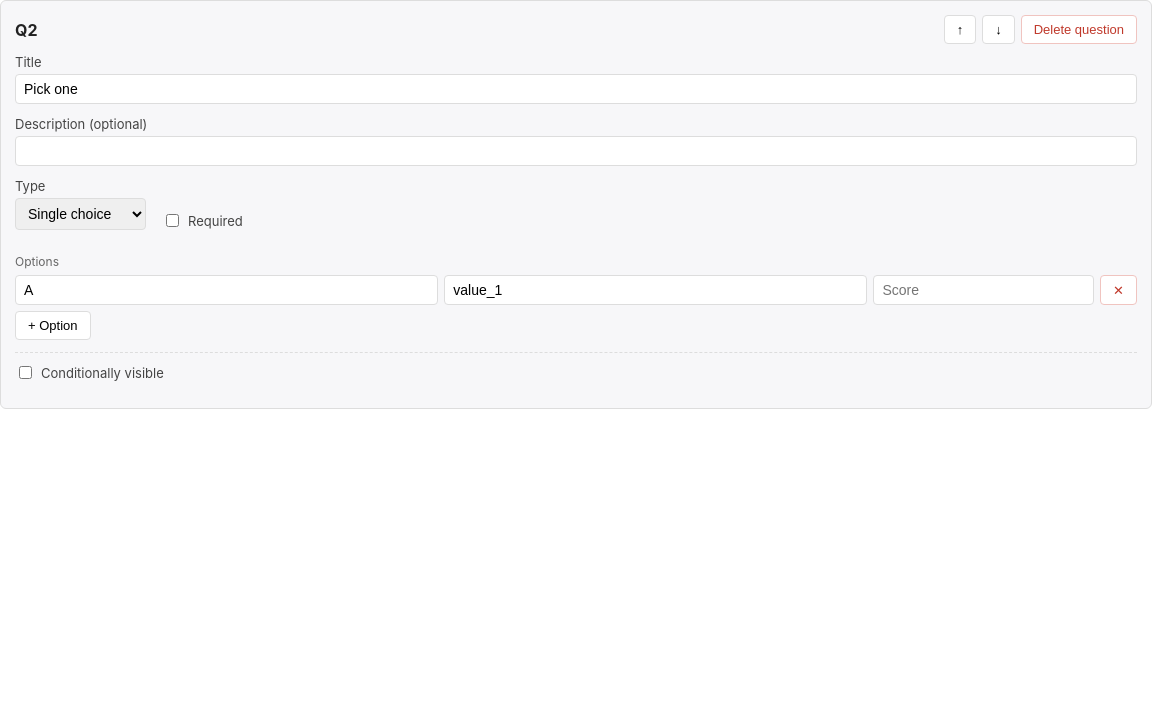
Test: QuestionEditor — conditional visibility › toggling "Conditionally visible" on adds an empty AND rule group editor
expect the text "Match" is not shown: met
Click the checkbox labelled "Conditionally visible" at (26, 372), box [19,366,32,379]
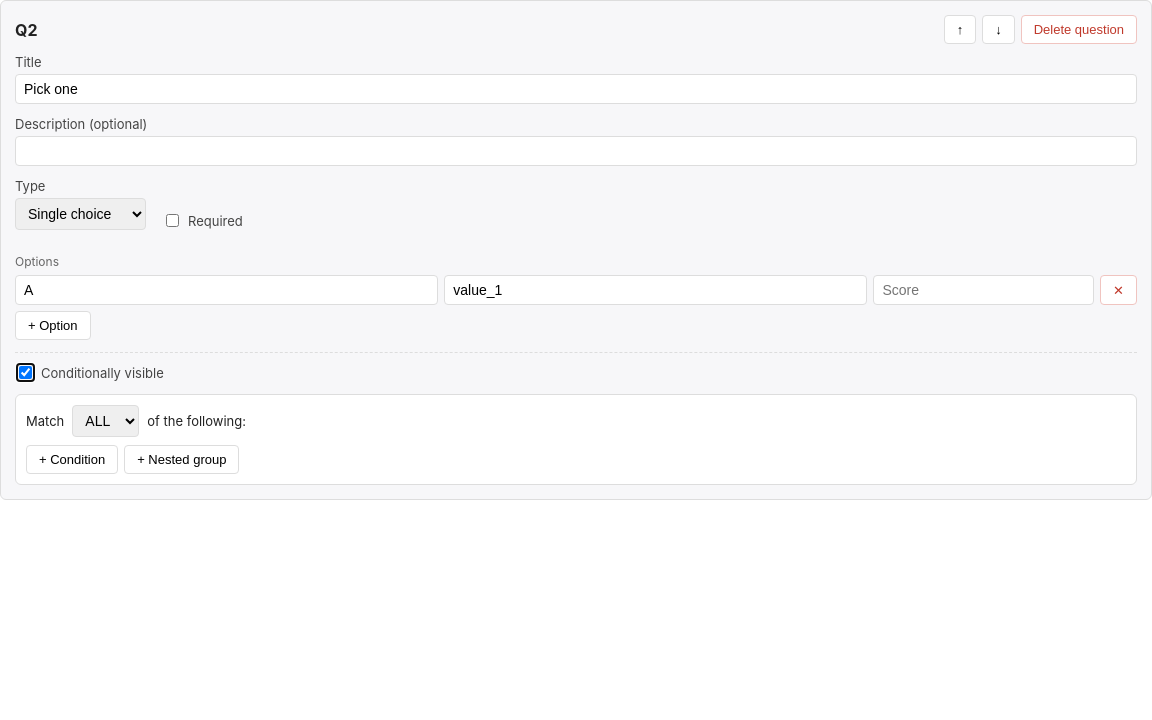
expect the text "Match" is shown: met, box [26,413,64,429]
